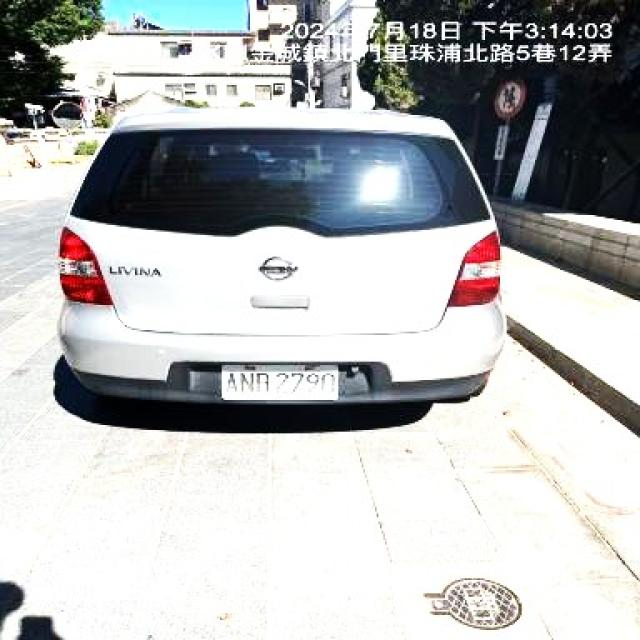Legalparking: (41, 56, 517, 472)
